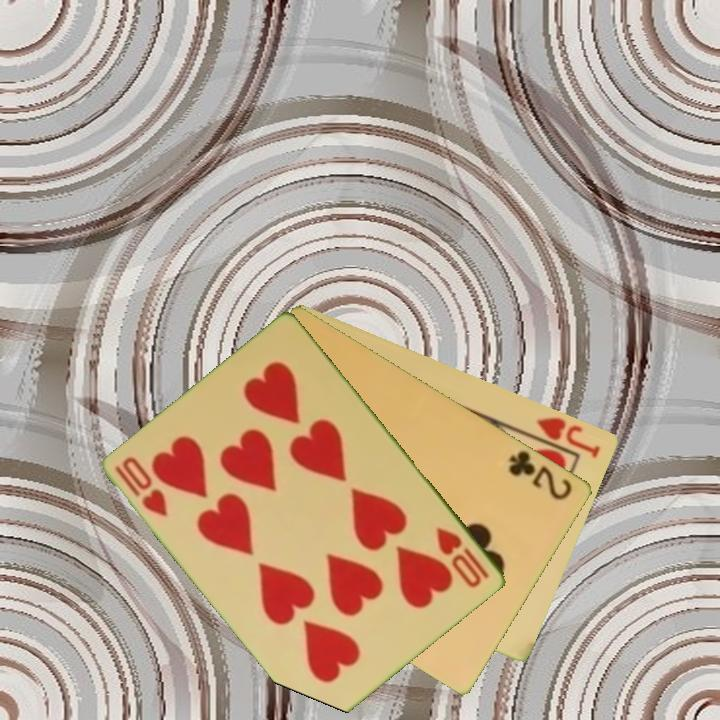10h: (433, 523, 493, 591), (112, 453, 171, 520)
2c: (505, 446, 576, 503)
Jh: (521, 413, 604, 461)
